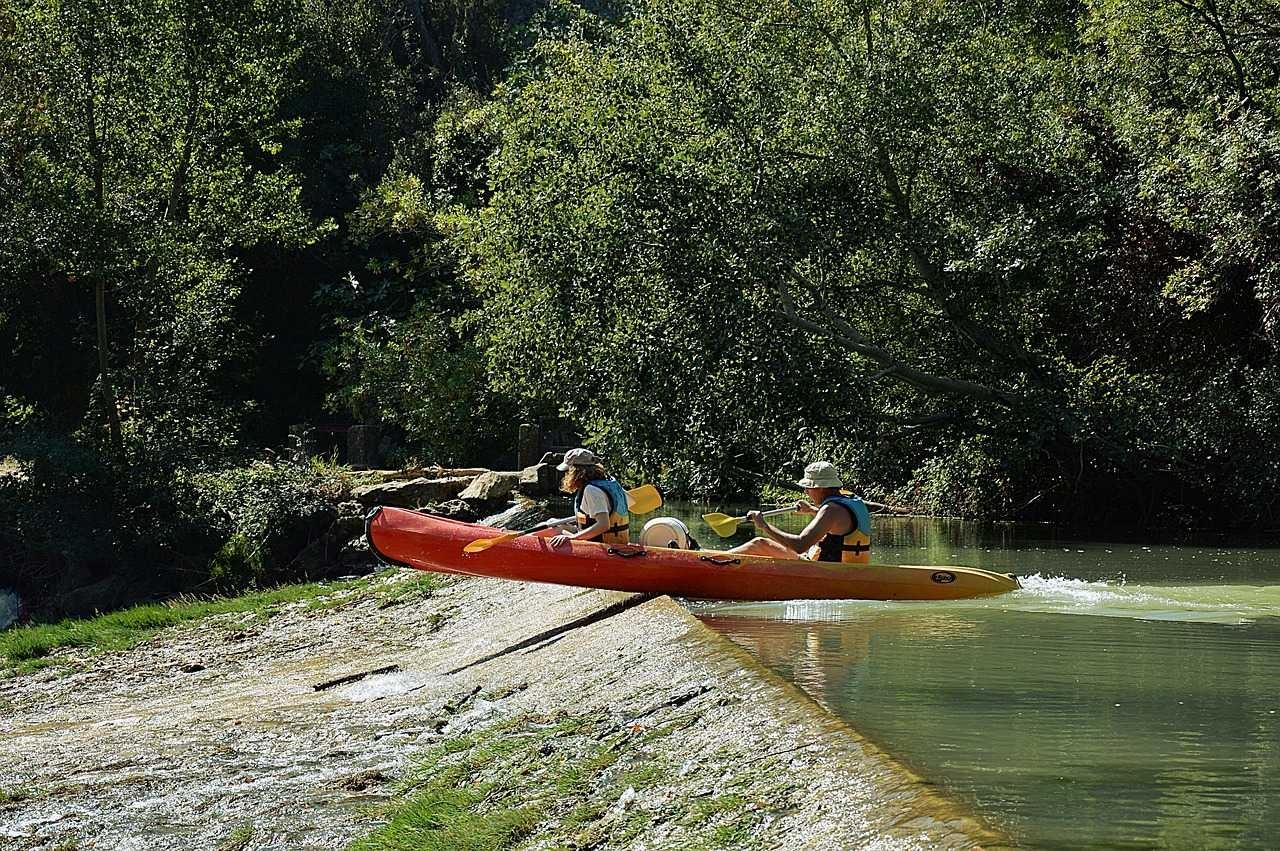kayak: (367, 503, 1021, 607)
